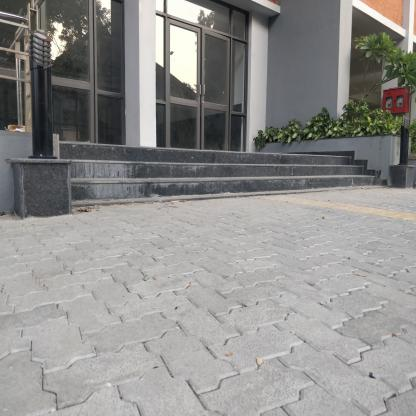stairs: (76, 144, 229, 212)
